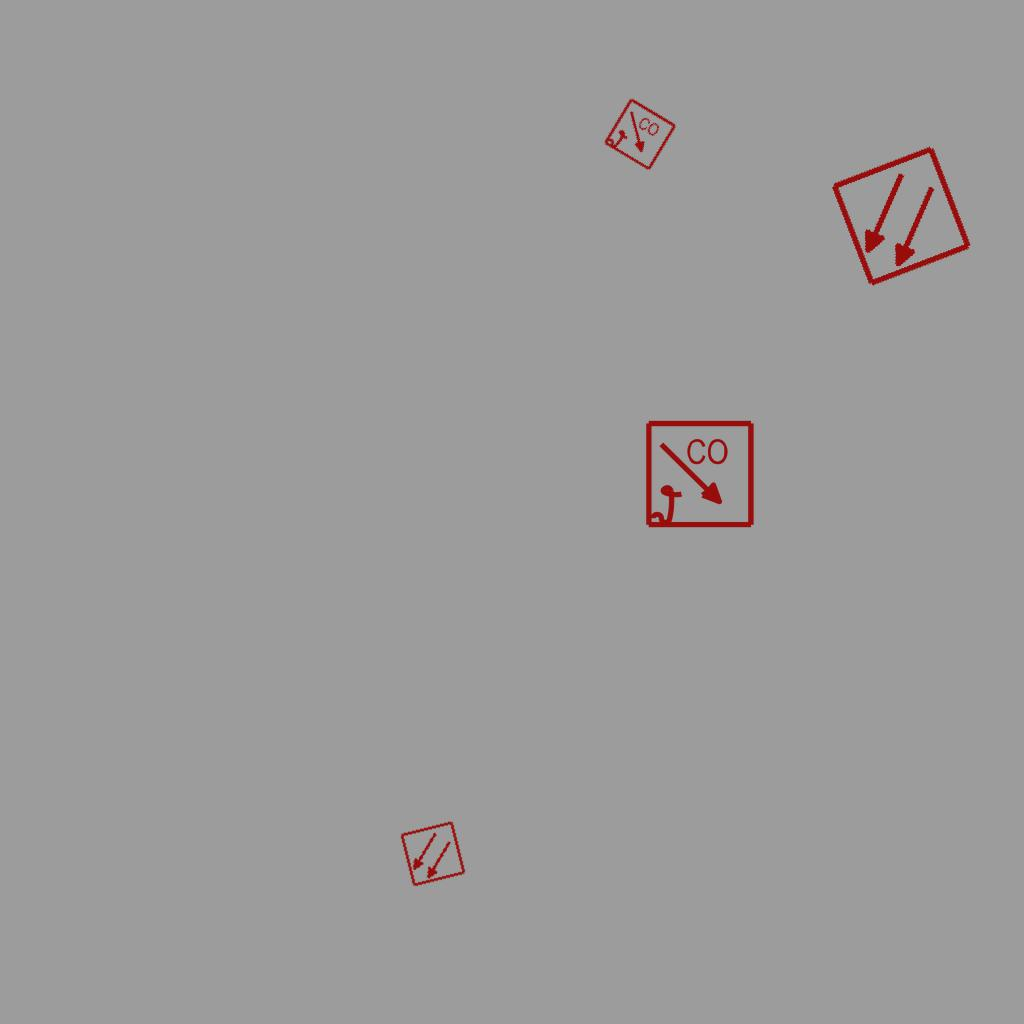RMO_Rauchmelder_optischer: (828, 143, 975, 290), (399, 820, 467, 888)
ROA_Rauchmelder_optisch_mit_Signalgeber_(Sockelsirene): (644, 419, 757, 532), (601, 96, 679, 174)
